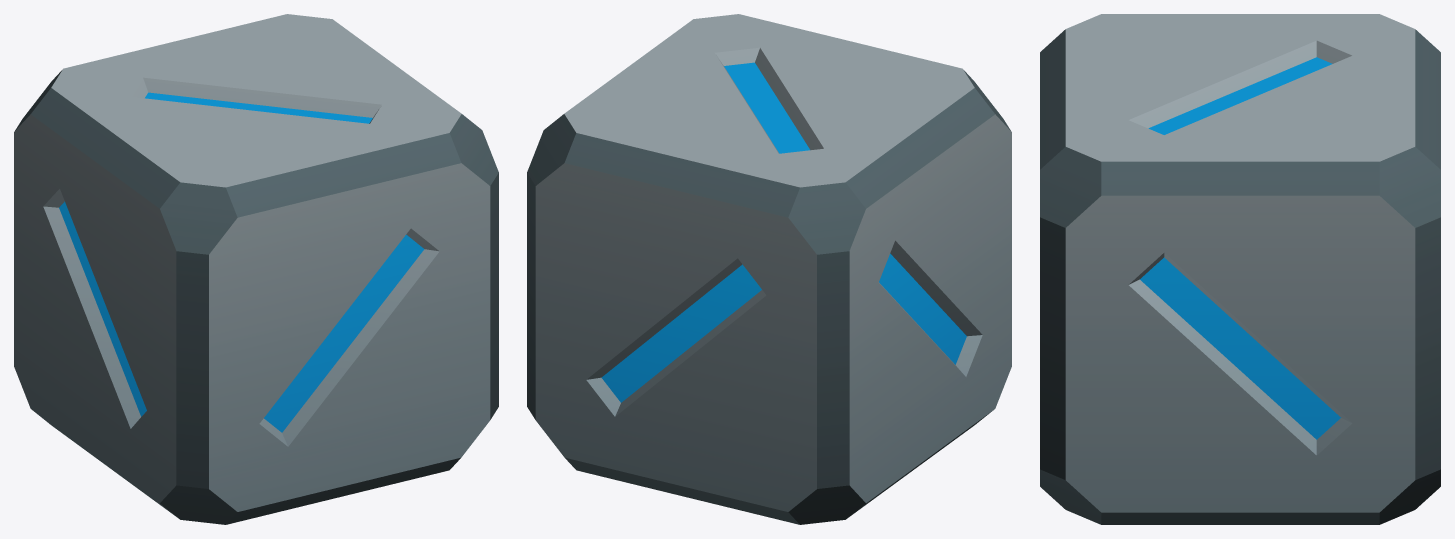
The picture shows the model from 3 angles, left to right: view 1: azimuth 30°, elevation 25°; view 2: azimuth 150°, elevation 25°; view 3: azimuth 270°, elevation 25°; orthographic projection. The views are drawn at different scales.
Visible parts, largest first — view 1: Box_002; view 2: Box_002; view 3: Box_002.
Boxes of the visible parts, box(x1,y1,x2,y2) form: Box_002: box(14, 14, 498, 524); Box_002: box(527, 14, 1011, 524); Box_002: box(1040, 14, 1440, 524).
Size of the model in its own units: 0.6 by 0.6 by 0.6.
Materials: 2 (2 with a texture image).
